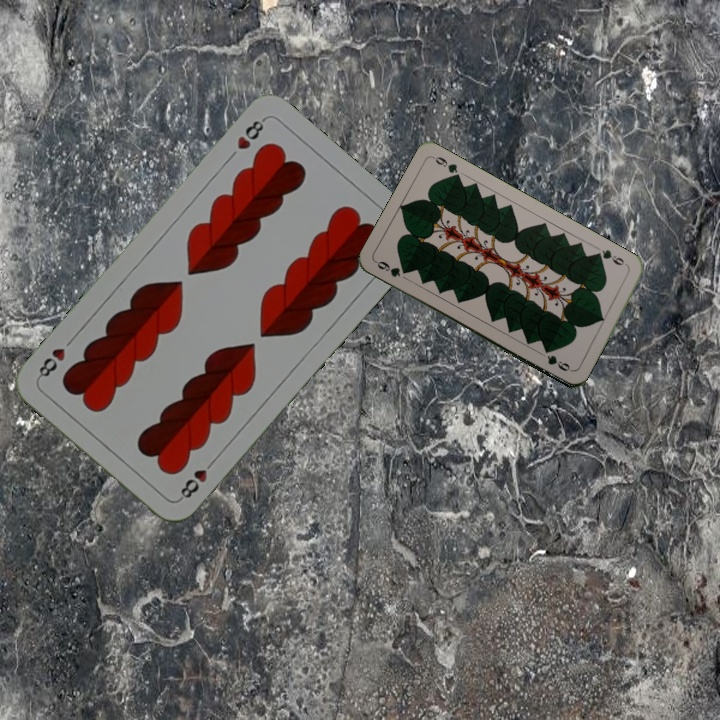G9: (592, 245, 631, 270), (371, 257, 403, 280)
H8: (175, 454, 218, 503), (232, 114, 268, 152)
